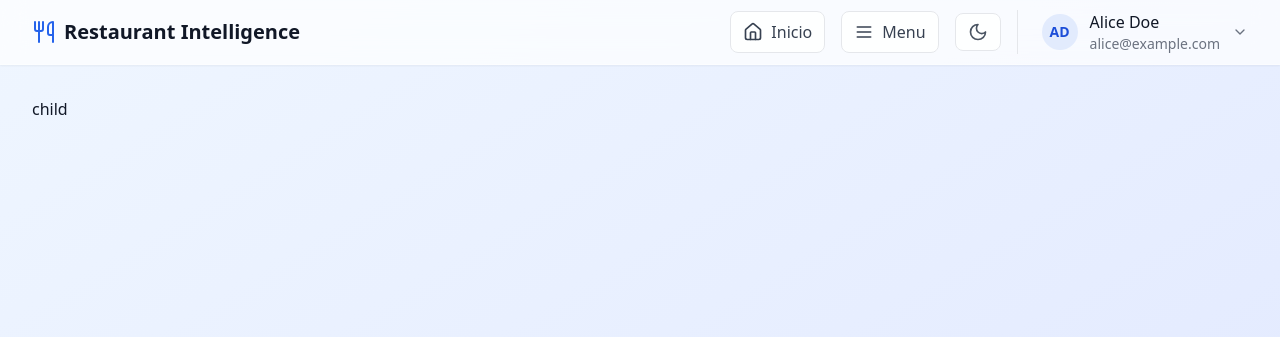
Test: Layout accessible names › shows Insights and a separate Favoritos item
Click the button "Menu" at (890, 32), box [841, 11, 939, 53]
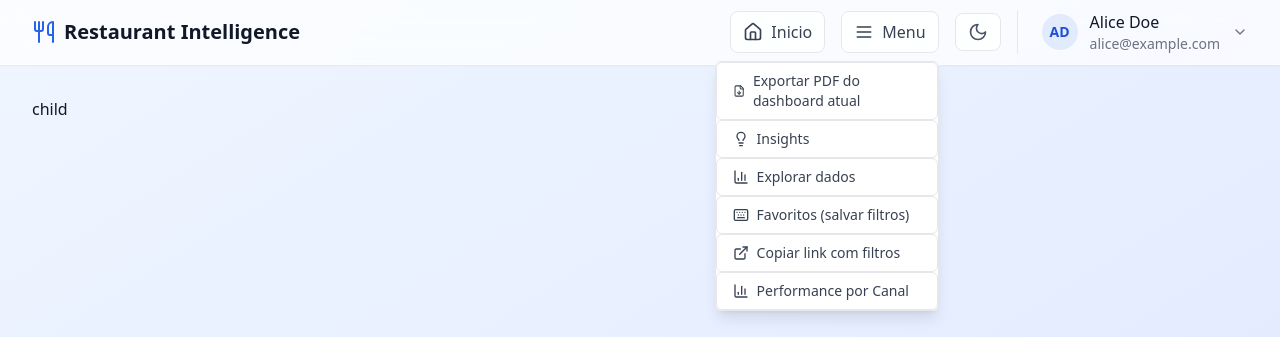
Expected: the menu item "Insights" is shown, [716, 120, 938, 158]
Expected: the menu item "Favoritos (salvar filtros)" is shown, [716, 196, 938, 234]
